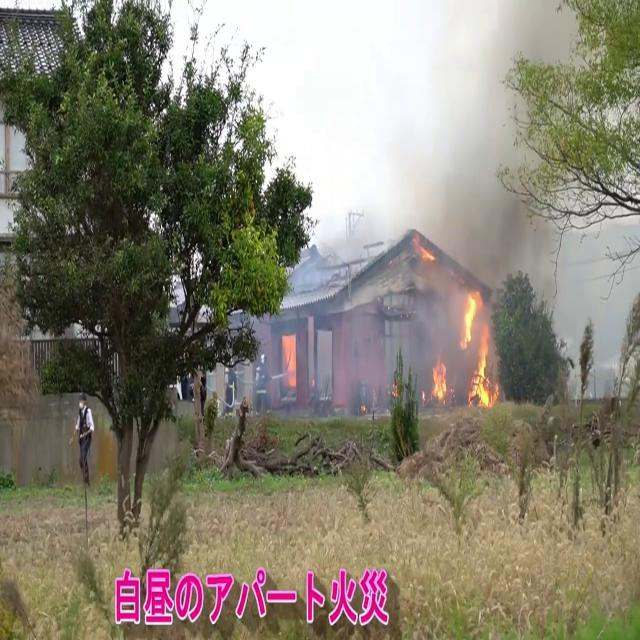Fire: (460, 283, 497, 410), (428, 350, 449, 404)
Smoke: (398, 8, 544, 321)
